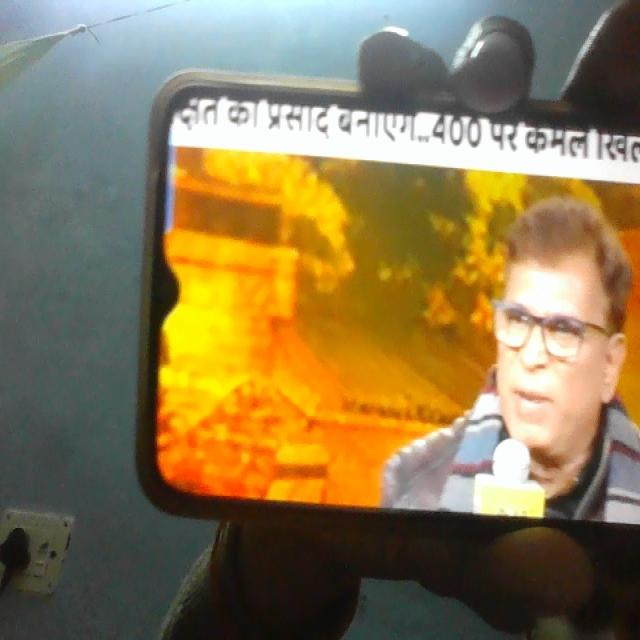fake: (472, 173, 636, 483)
